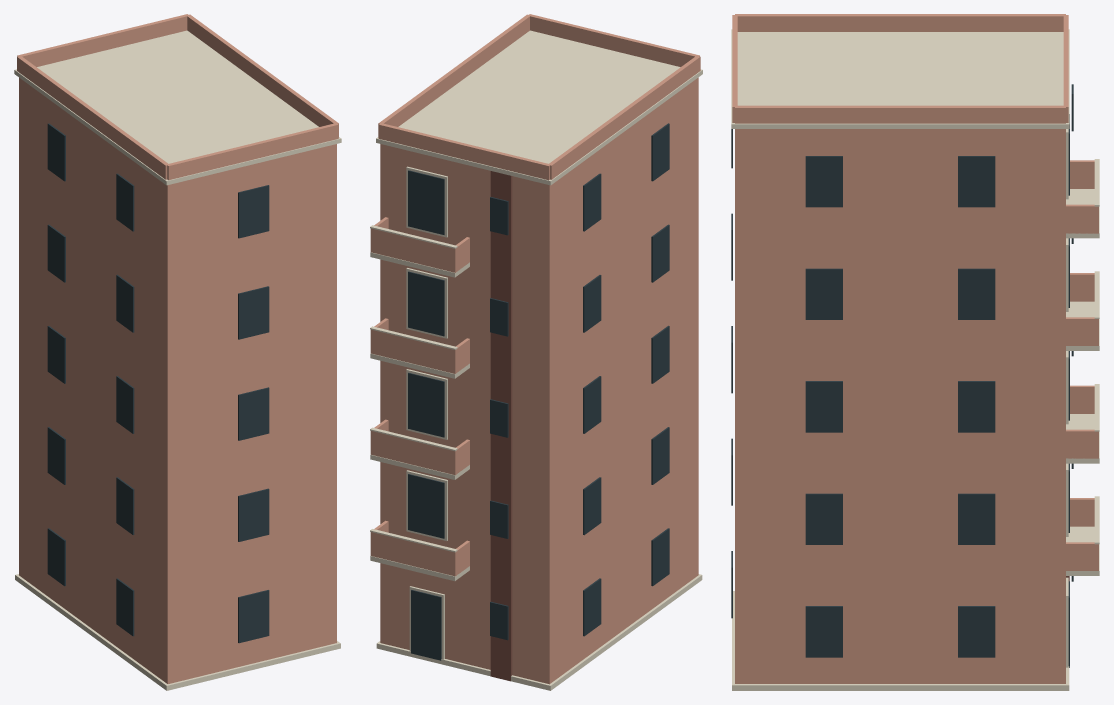
Rendered from KOL_T3_MOD_03.fbx.
3 views of the same model, side by side, from view 1: azimuth 30°, elevation 25°; view 2: azimuth 150°, elevation 25°; view 3: azimuth 270°, elevation 25° (orthographic). The views are drawn at different scales.
Visible parts, largest first — view 1: KOL_T3_MOD_03__Body, KOL_T3_MOD_03__Trim, KOL_T3_MOD_03__Dark; view 2: KOL_T3_MOD_03__Body, KOL_T3_MOD_03__Trim, KOL_T3_MOD_03__Dark, KOL_T3_MOD_03__Accent; view 3: KOL_T3_MOD_03__Body, KOL_T3_MOD_03__Trim, KOL_T3_MOD_03__Dark.
Part boxes in pixels (x1=…): KOL_T3_MOD_03__Body: x1=17, y1=14, x2=338, y2=683; KOL_T3_MOD_03__Trim: x1=14, y1=30, x2=341, y2=690; KOL_T3_MOD_03__Dark: x1=47, y1=123, x2=269, y2=643; KOL_T3_MOD_03__Body: x1=370, y1=14, x2=700, y2=684; KOL_T3_MOD_03__Trim: x1=370, y1=30, x2=702, y2=690; KOL_T3_MOD_03__Dark: x1=408, y1=123, x2=669, y2=660; KOL_T3_MOD_03__Accent: x1=490, y1=171, x2=512, y2=681; KOL_T3_MOD_03__Body: x1=732, y1=14, x2=1098, y2=683; KOL_T3_MOD_03__Trim: x1=731, y1=29, x2=1099, y2=690; KOL_T3_MOD_03__Dark: x1=731, y1=84, x2=1073, y2=667.
Size of the model in its own units: 21.74 by 62.15 by 35.62.
